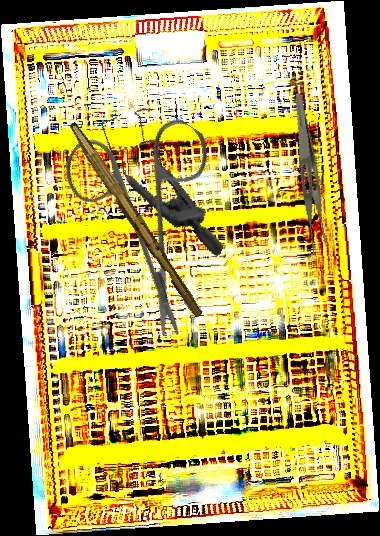Dressing Forceps: (277, 92, 336, 257)
Iris Scissors: (15, 79, 279, 342)
Scalpel Handle: (62, 121, 208, 319)
Speculum: (71, 93, 262, 257)
